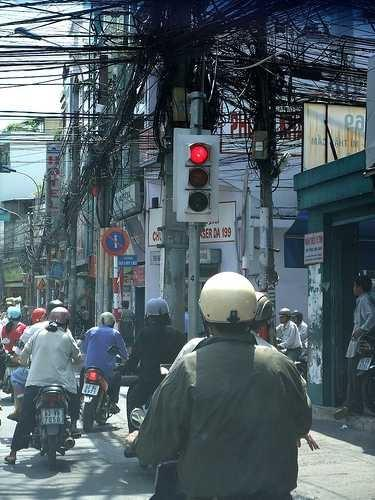red: (183, 135, 213, 220), (185, 139, 212, 167)
